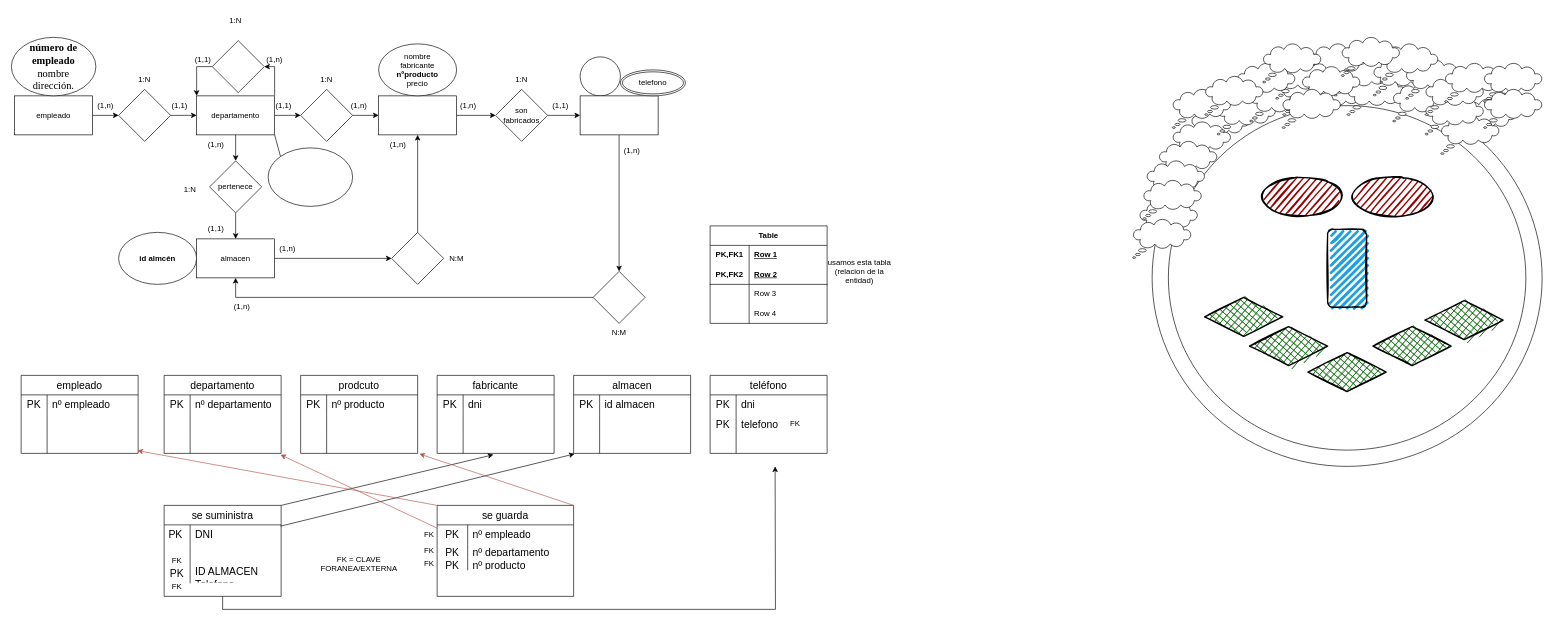
This 1554x626 diagram has some shape labels left out. The centre of each missing label's shape, as x and y in pixels:
"fabricantes" belongs at (618,115).
"guarda" belongs at (417,258).
"nombre departamento nº departamento" belongs at (310,176).
"nombre direccion dni" belongs at (599,76).
"productos" belongs at (417,115).
"suminitra" belongs at (618,297).
"tiene jefe" belongs at (238,66).
"trabaja" belongs at (144,115).
"vende" belongs at (326,115).
